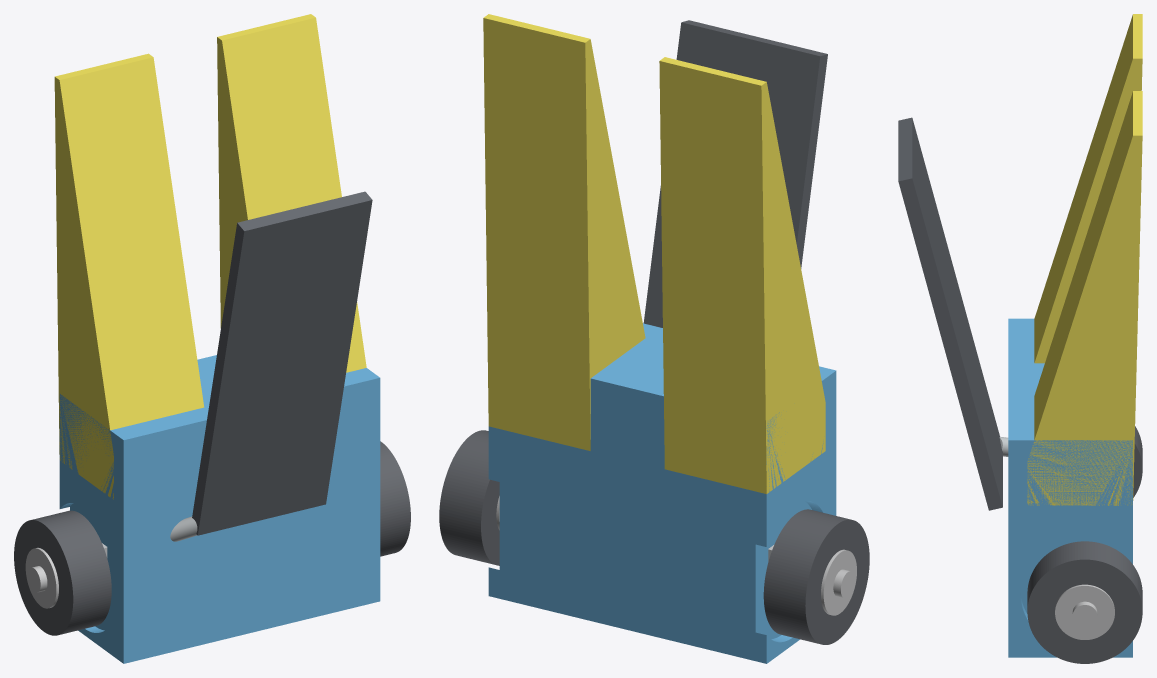
File: failure_to_launch.glb
3 views of the same model, side by side, from view 1: azimuth 30°, elevation 25°; view 2: azimuth 150°, elevation 25°; view 3: azimuth 270°, elevation 25° (orthographic). The views are drawn at different scales.
Visible parts, largest first — view 1: chassis, flip_arm_r, top_arm, flip_arm_l, wheel_r0, wheel_l0, dt_hub_wheel_r0; view 2: chassis, flip_arm_r, flip_arm_l, top_arm, wheel_r0, wheel_l0, dt_hub_wheel_r0; view 3: flip_arm_l, chassis, top_arm, wheel_l0, flip_arm_r, dt_hub_wheel_l0, wheel_r0.
Part boxes in pixels (<box>): chassis: <box>59,355,380,663</box>; flip_arm_r: <box>54,53,204,499</box>; top_arm: <box>192,191,372,535</box>; flip_arm_l: <box>217,14,366,372</box>; wheel_r0: <box>14,510,111,635</box>; wheel_l0: <box>380,441,410,556</box>; dt_hub_wheel_r0: <box>25,547,58,608</box>; chassis: <box>488,323,836,663</box>; flip_arm_r: <box>659,57,825,493</box>; flip_arm_l: <box>483,14,645,450</box>; top_arm: <box>643,20,827,327</box>; wheel_r0: <box>763,509,869,644</box>; wheel_l0: <box>439,430,499,565</box>; dt_hub_wheel_r0: <box>821,549,856,615</box>; flip_arm_l: <box>1027,91,1142,505</box>; chassis: <box>1008,318,1132,657</box>; top_arm: <box>898,117,1002,510</box>; wheel_l0: <box>1027,541,1142,663</box>; flip_arm_r: <box>1034,14,1142,363</box>; dt_hub_wheel_l0: <box>1055,584,1114,639</box>; wheel_r0: <box>1133,426,1142,497</box>.
Size of the model in its own units: 83.4 by 120 by 50.89.
